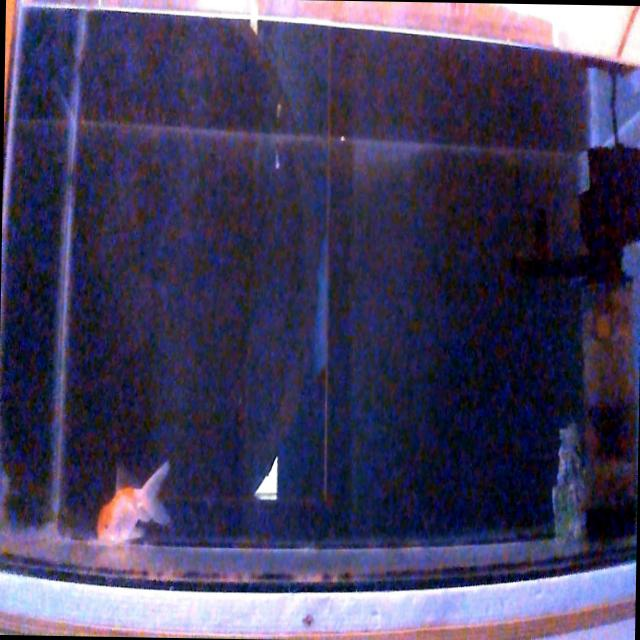fish: (96, 458, 172, 546)
